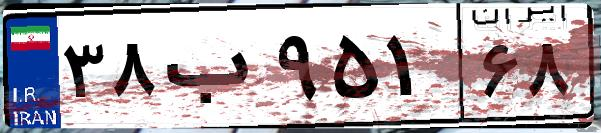1: (385, 28, 445, 110)
3: (57, 26, 110, 100)
5: (330, 28, 385, 110)
6: (475, 38, 525, 113)
8: (525, 38, 570, 115), (110, 28, 158, 98)
9: (270, 28, 330, 110)
ب: (158, 20, 270, 120)
